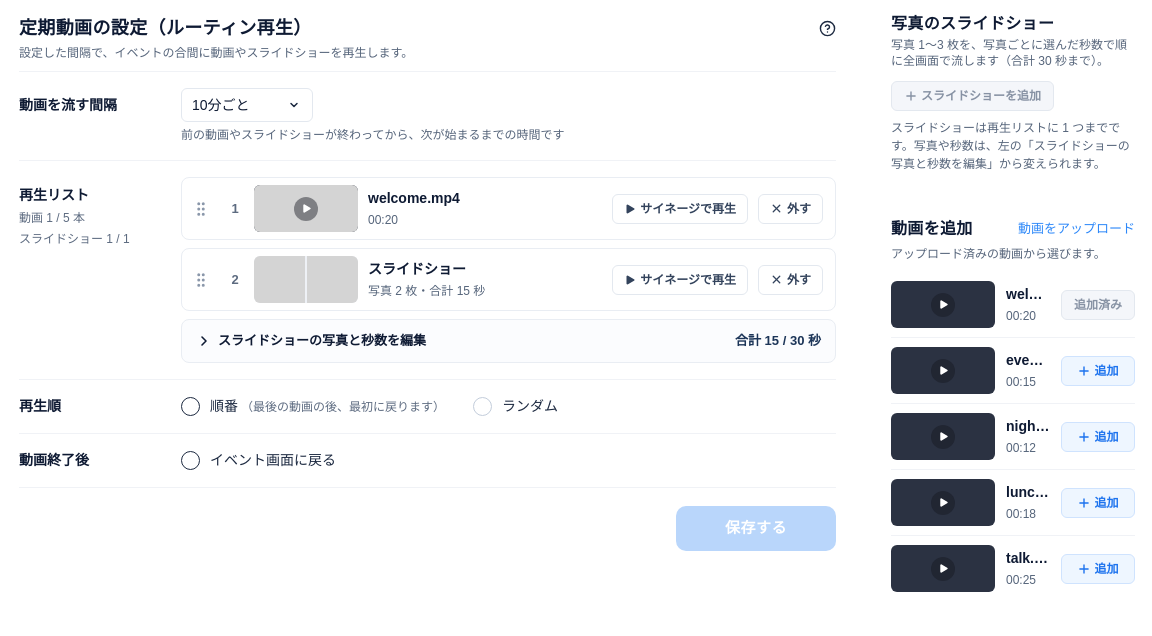
Scenario: スライドショーの行 › 写真の小さなサムネイル・枚数・合計秒数を出す。すでにあるので「スライドショーを追加」は押せず、理由を出す
Expected: the text "welcome.mp4" below "前の動画やスライドショーが終わってから、次が始まるまでの時間です" is shown, 368,190 -> 460,206
Expected: the text "スライドショー" is shown, 368,260 -> 466,276
Click the button "スライドショーの写真と秒数を編集" at (322, 341), box 196,320 -> 723,362
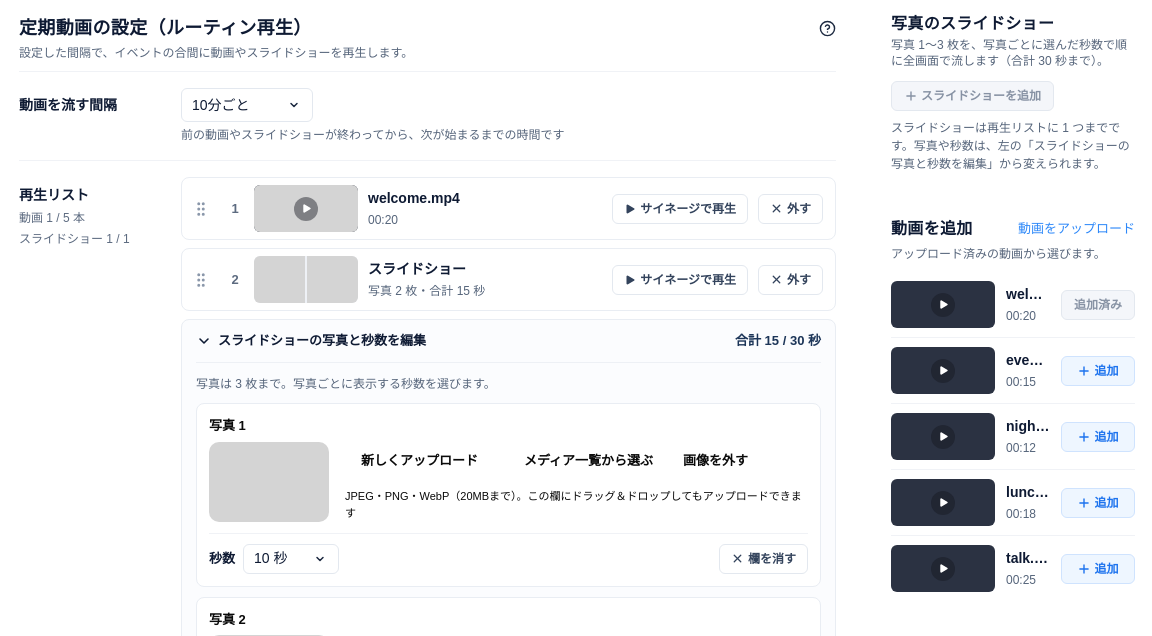
Expected: the button "スライドショーを追加" is disabled, 891,81 -> 1054,111
Now the button "スライドショーの写真と秒数を編集" is expanded, box 196,320 -> 723,362
